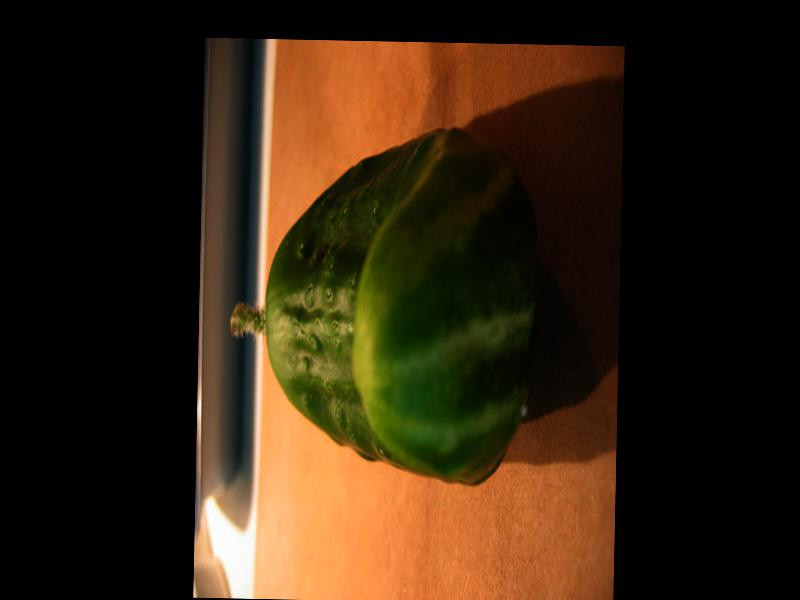Cucumber: (226, 126, 540, 489)
